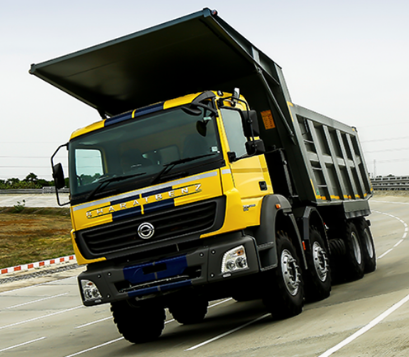truck: (19, 5, 409, 346)
